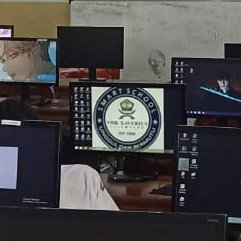monitor: (69, 81, 186, 155), (171, 125, 241, 218), (0, 119, 61, 208), (170, 57, 241, 120), (56, 26, 125, 70), (0, 37, 59, 88)
